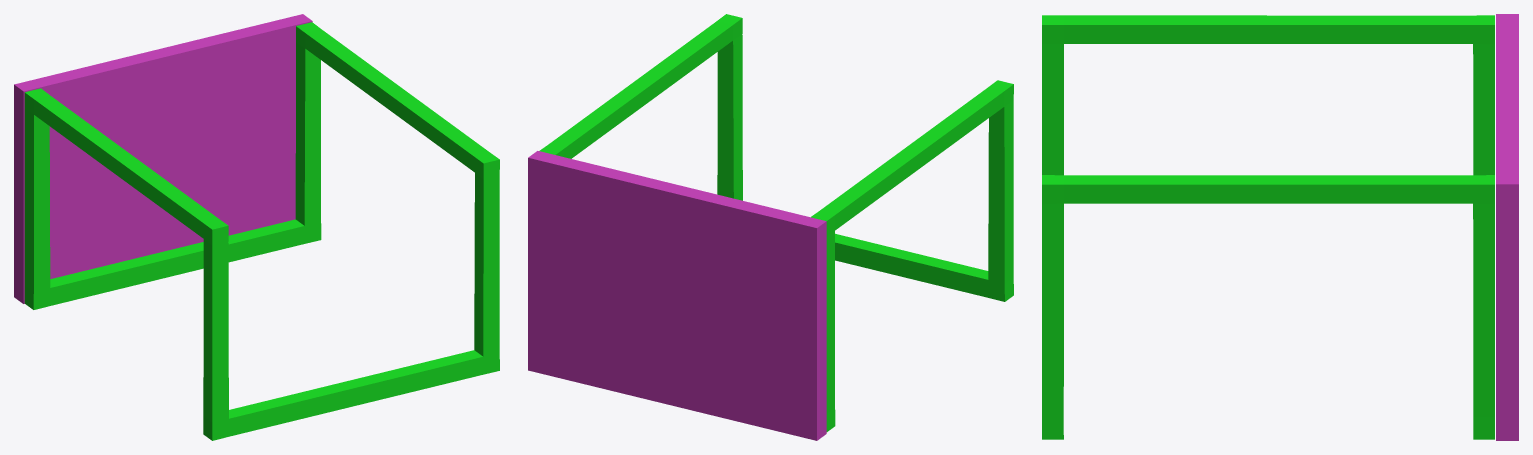
The model's file is endtable.fbx.
The picture shows the model from 3 angles, left to right: view 1: azimuth 30°, elevation 25°; view 2: azimuth 150°, elevation 25°; view 3: azimuth 270°, elevation 25°; orthographic projection. The views are drawn at different scales.
Visible parts, largest first — view 1: Cube.014; view 2: Cube.014; view 3: Cube.014.
Boxes of the visible parts, bbox=[...] form: Cube.014: bbox=[14, 14, 499, 440]; Cube.014: bbox=[528, 14, 1013, 440]; Cube.014: bbox=[1042, 14, 1518, 440].
Bounding box in the file's own units: 45.35 × 31.91 × 53.71.
